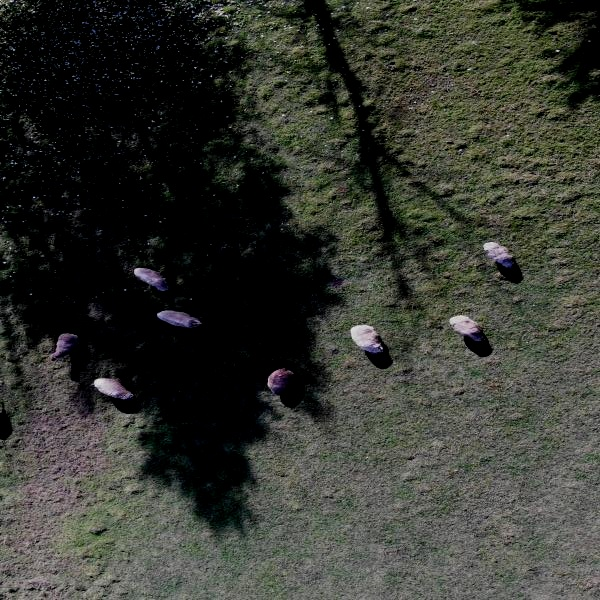sheep: (342, 323, 394, 359), (441, 313, 494, 347), (151, 307, 213, 335), (128, 267, 176, 298), (477, 238, 519, 273), (87, 374, 138, 400), (42, 328, 77, 361), (261, 365, 296, 398)
